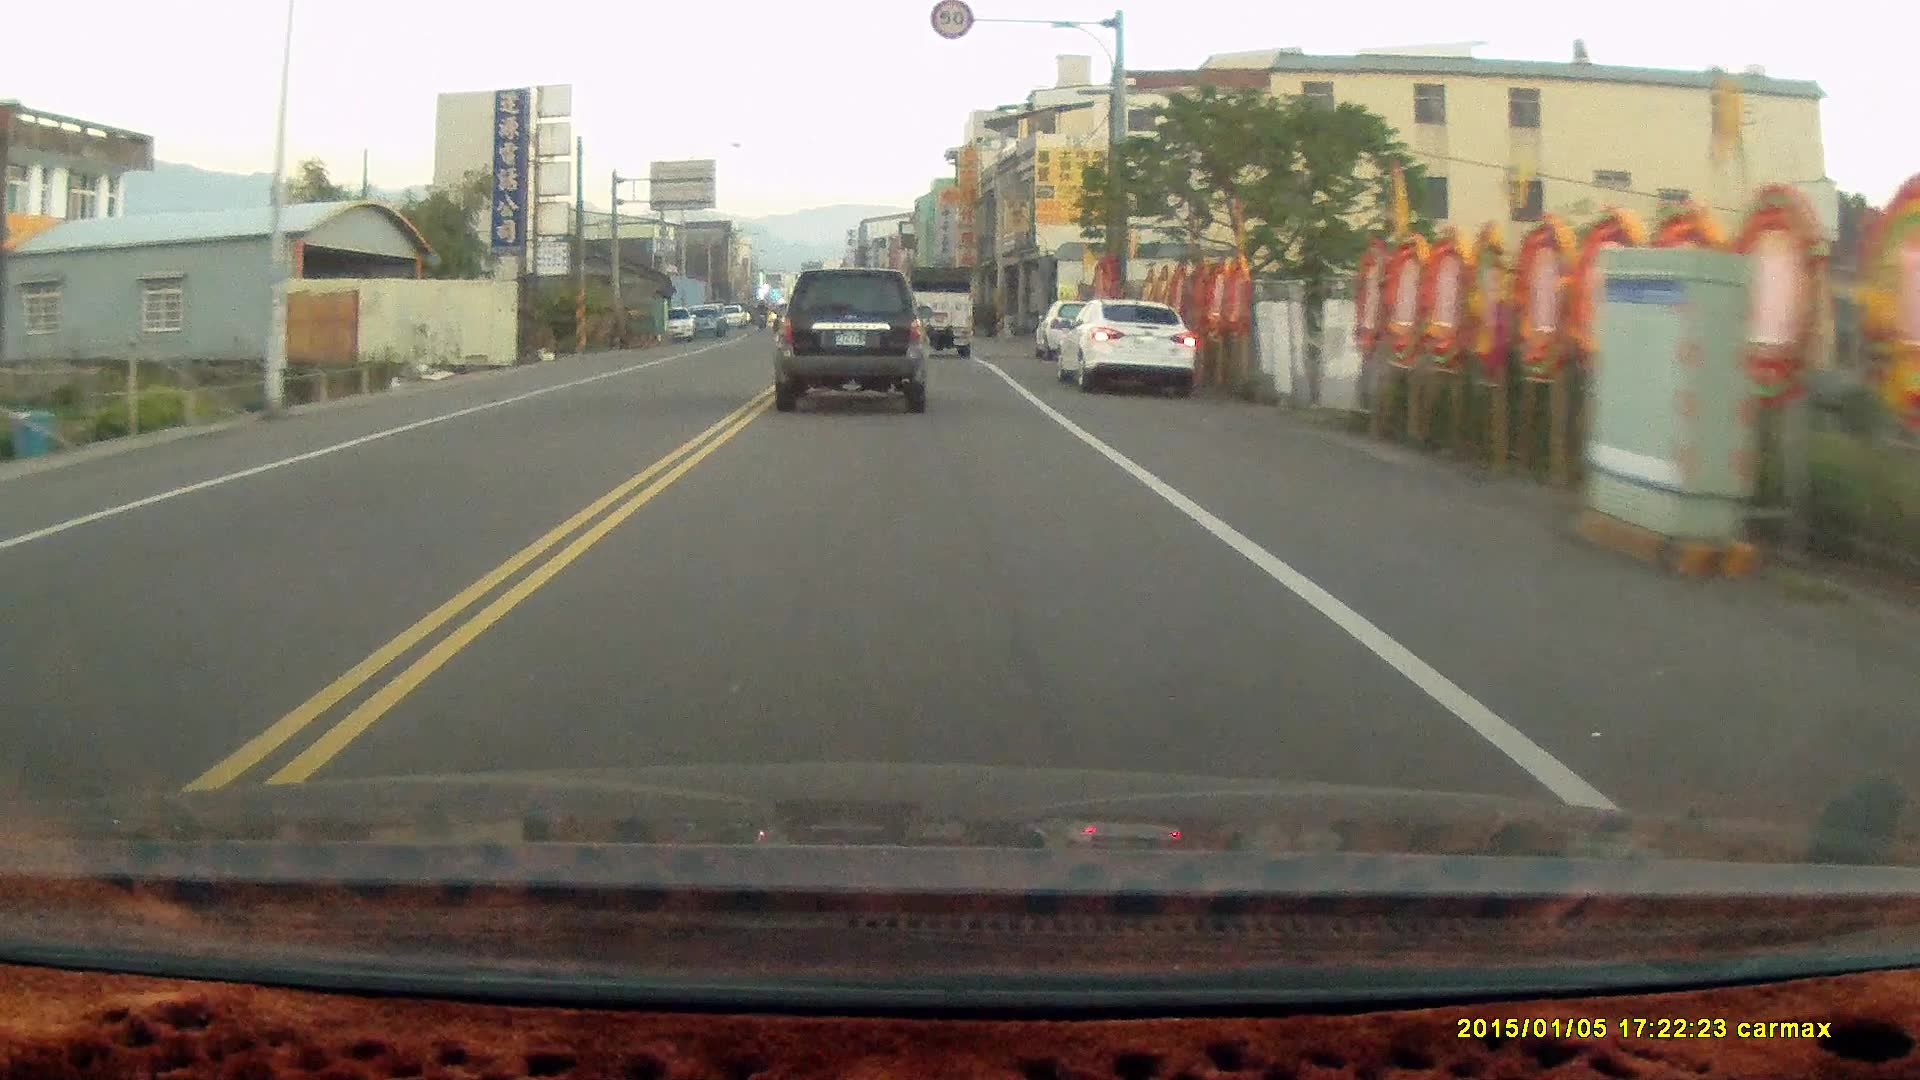vehicle: (771, 262, 934, 413), (1059, 297, 1193, 396), (905, 262, 980, 364)
